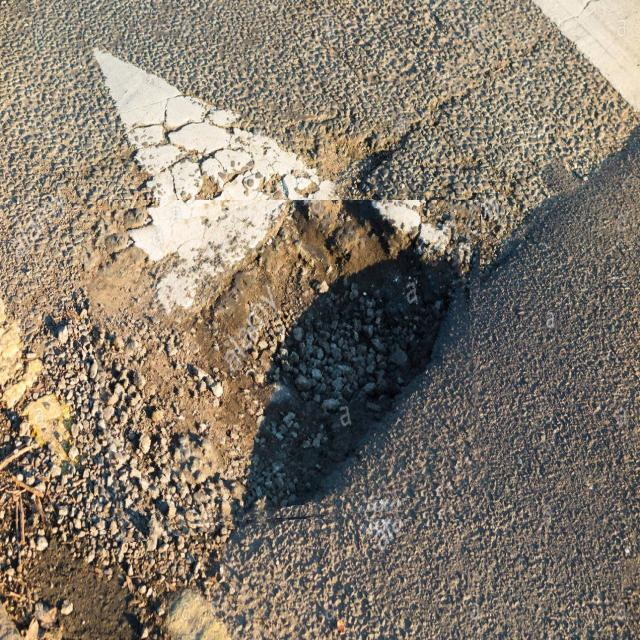Pothole: (90, 200, 481, 531)
